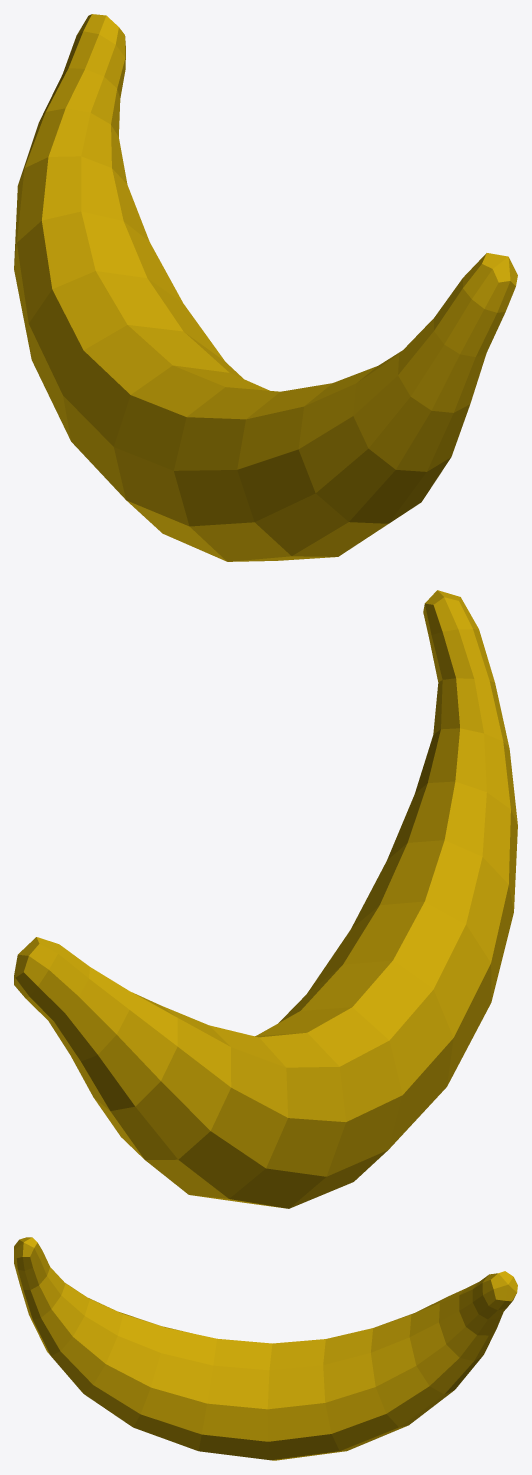
File: banana.fbx
The picture shows the model from 3 angles, top to bottom: view 1: azimuth 30°, elevation 25°; view 2: azimuth 150°, elevation 25°; view 3: azimuth 270°, elevation 25°; orthographic projection. The views are drawn at different scales.
Visible parts, largest first — view 1: banana; view 2: banana; view 3: banana.
Boxes of the visible parts, x1,y1,x2,y2 form: banana: (14,14,517,561); banana: (14,590,517,1208); banana: (14,1237,517,1460).
Size of the model in its own units: 5.88 by 11.75 by 22.04.
